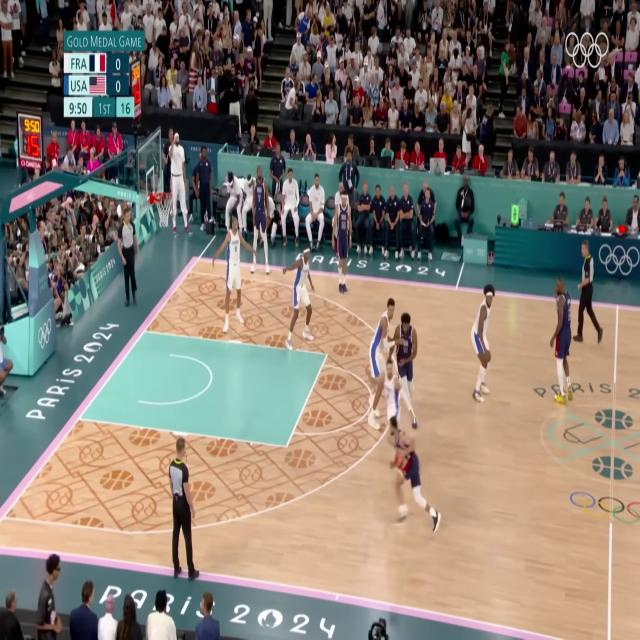ball-handler: (385, 416, 442, 539)
player: (210, 211, 257, 338), (364, 294, 395, 433), (544, 271, 573, 410), (470, 282, 502, 407), (286, 246, 318, 353), (332, 190, 355, 299), (249, 167, 272, 275), (396, 309, 416, 410), (373, 353, 398, 422)
